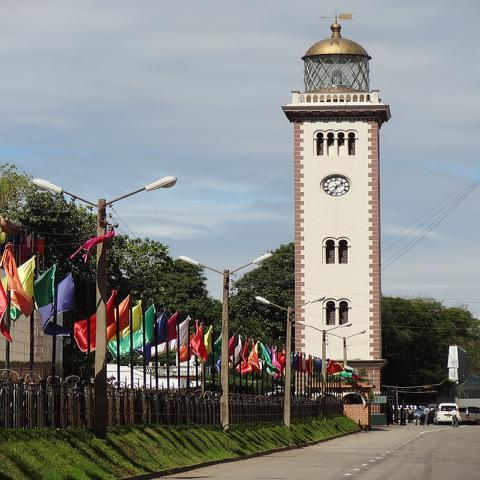car: (458, 406, 480, 424), (413, 408, 426, 419)
truck: (434, 404, 460, 422)
